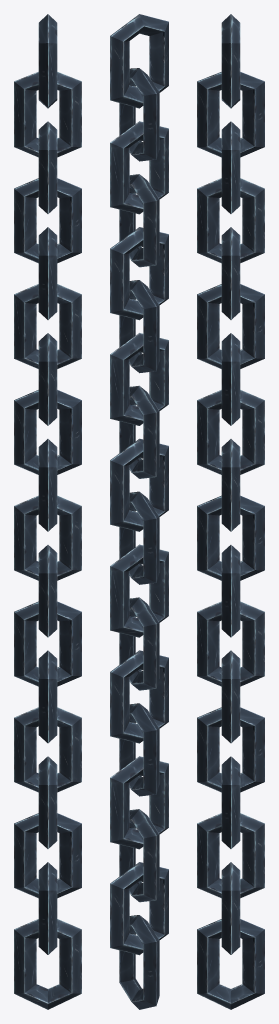
Rendered from Chain_4.fbx.
3 views of the same model, side by side, from view 1: azimuth 90°, elevation 25°; view 2: azimuth 210°, elevation 25°; view 3: azimuth 270°, elevation 25° (orthographic).
Parts seen in each view (by area): view 1: Chain_4; view 2: Chain_4; view 3: Chain_4.
Boxes of the visible parts, bbox=[...] form: Chain_4: bbox=[14, 14, 81, 1009]; Chain_4: bbox=[110, 14, 168, 1009]; Chain_4: bbox=[197, 14, 264, 1009].
Bounding box in the file's own units: 0.229 × 3.7 × 0.229.
